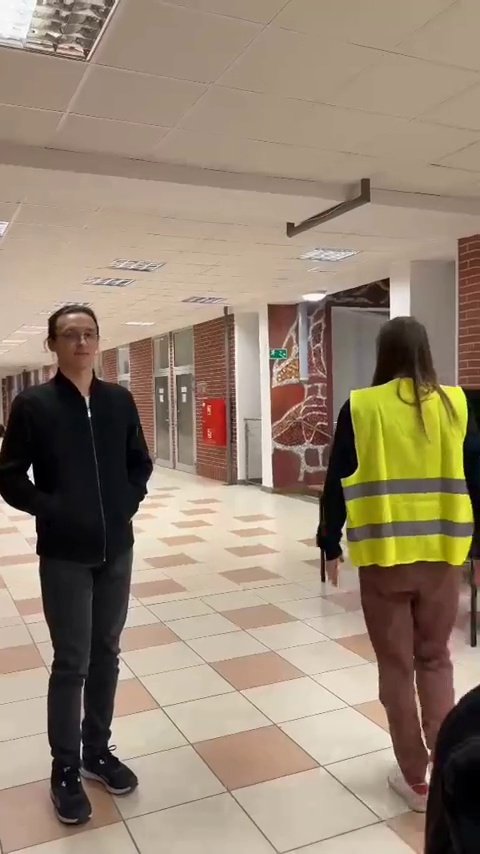no vest: (8, 310, 156, 833)
vest: (307, 319, 480, 813)
